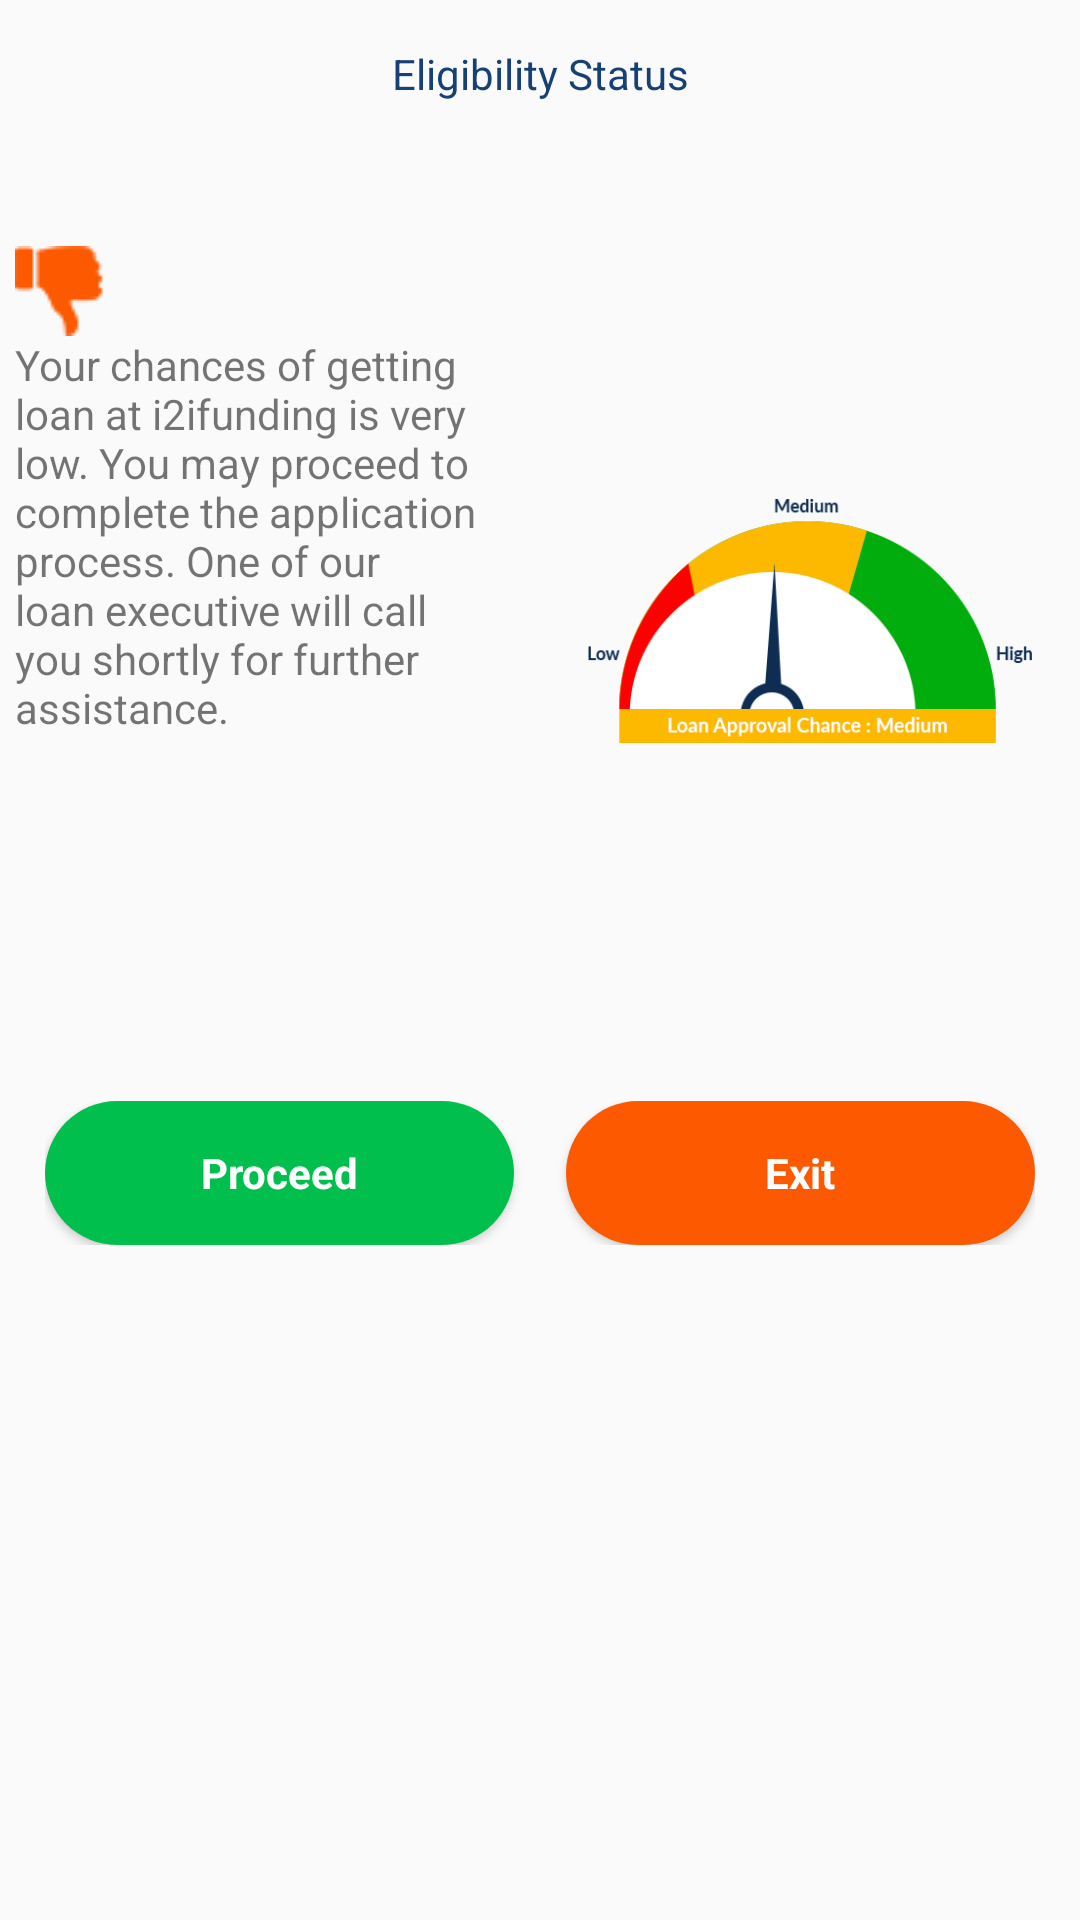

Named icons in this screenshot (1080px x 1920px) and their centers, [x,y]:
thumbsdown: [59,291]
